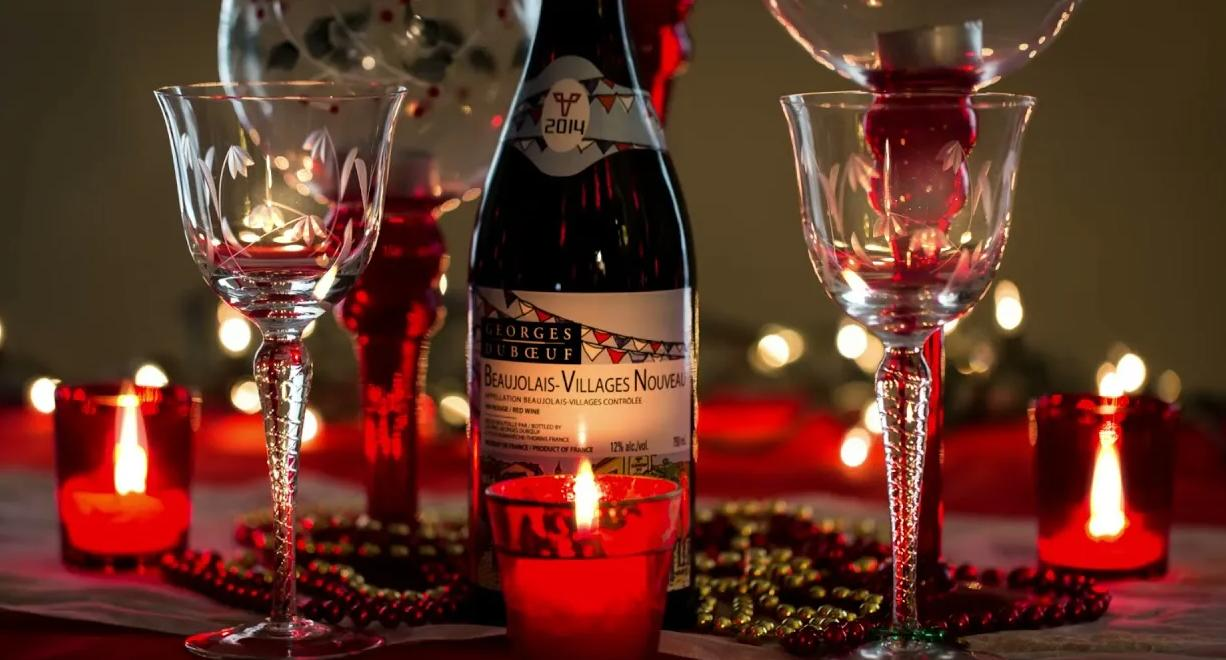wine bottle: (466, 0, 698, 628)
wine label: (467, 284, 691, 592)
